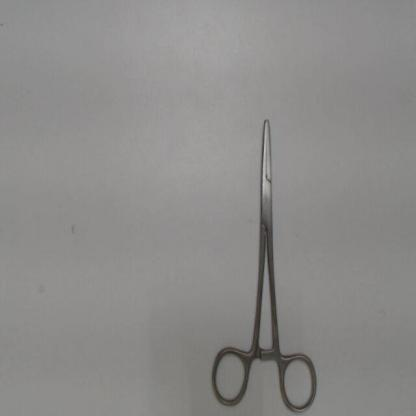Mayo Needle Holder: (206, 113, 324, 414)
